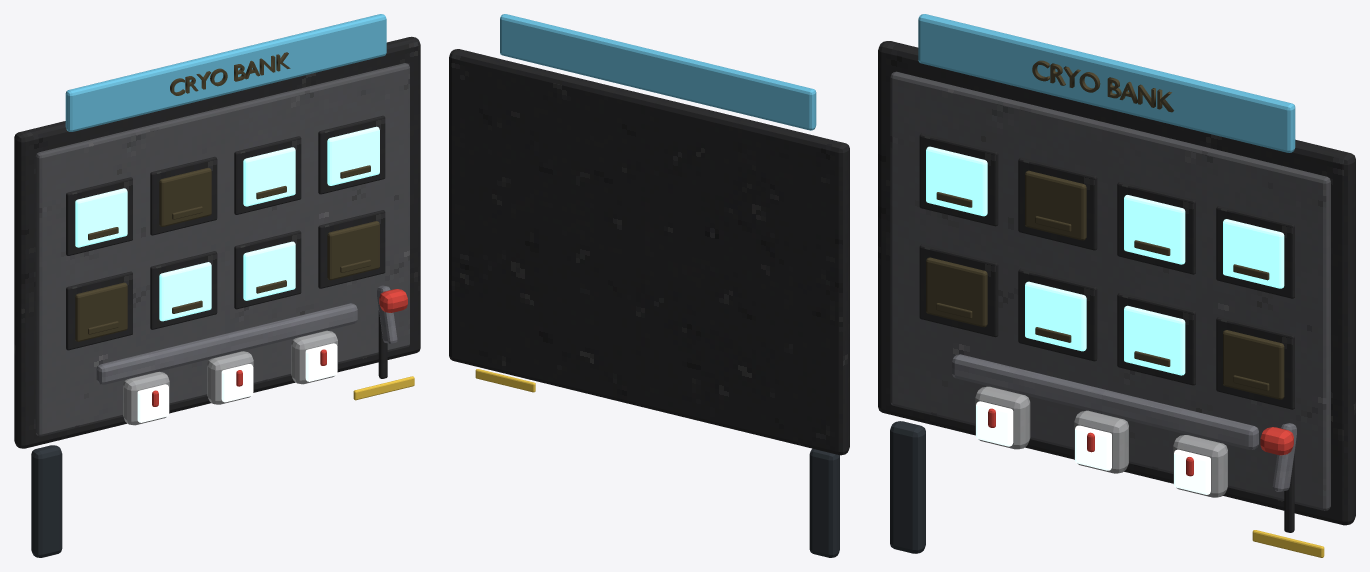
File: decor_med_cryo_control.glb
The picture shows the model from 3 angles, left to right: view 1: azimuth 30°, elevation 25°; view 2: azimuth 150°, elevation 25°; view 3: azimuth 330°, elevation 25°; orthographic projection. The views are drawn at different scales.
Parts seen in each view (by area): view 1: DEC_MedCryoControl__Face_Plate, DEC_MedCryoControl__Backing_Plate, DEC_MedCryoControl__Header, DEC_MedCryoControl__Gauge_Rail, DEC_MedCryoControl__Cable_Trunk, DEC_MedCryoControl__Berth_Tile_7, DEC_MedCryoControl__Berth_Tile_5, DEC_MedCryoControl__Berth_Tile_1, DEC_MedCryoControl__Berth_Tile_2, DEC_MedCryoControl__Berth_Tile_3, DEC_MedCryoControl__Berth_Tile_6, DEC_MedCryoControl__Berth_Tile_4 (+19 smaller); view 2: DEC_MedCryoControl__Backing_Plate, DEC_MedCryoControl__Header, DEC_MedCryoControl__Cable_Trunk, DEC_MedCryoControl__Lever_Label; view 3: DEC_MedCryoControl__Face_Plate, DEC_MedCryoControl__Backing_Plate, DEC_MedCryoControl__Header, DEC_MedCryoControl__Gauge_Rail, DEC_MedCryoControl__Cable_Trunk, DEC_MedCryoControl__Berth_Tile_2, DEC_MedCryoControl__Berth_Tile_4, DEC_MedCryoControl__Berth_Tile_1, DEC_MedCryoControl__Berth_Tile_5, DEC_MedCryoControl__Berth_Tile_7, DEC_MedCryoControl__Berth_Tile_8, DEC_MedCryoControl__Berth_Tile_6 (+20 smaller).
Part boxes in pixels (<box>): DEC_MedCryoControl__Face_Plate: <box>35,63,409,436</box>; DEC_MedCryoControl__Backing_Plate: <box>14,36,420,448</box>; DEC_MedCryoControl__Header: <box>65,14,386,131</box>; DEC_MedCryoControl__Gauge_Rail: <box>96,303,357,384</box>; DEC_MedCryoControl__Cable_Trunk: <box>31,445,62,557</box>; DEC_MedCryoControl__Berth_Tile_7: <box>243,241,295,300</box>; DEC_MedCryoControl__Berth_Tile_5: <box>75,282,127,341</box>; DEC_MedCryoControl__Berth_Tile_1: <box>75,188,127,247</box>; DEC_MedCryoControl__Berth_Tile_2: <box>159,167,211,226</box>; DEC_MedCryoControl__Berth_Tile_3: <box>243,147,295,206</box>; DEC_MedCryoControl__Berth_Tile_6: <box>159,262,211,321</box>; DEC_MedCryoControl__Berth_Tile_4: <box>327,126,379,185</box>; DEC_MedCryoControl__Backing_Plate: <box>449,49,849,455</box>; DEC_MedCryoControl__Header: <box>500,14,816,130</box>; DEC_MedCryoControl__Cable_Trunk: <box>809,448,839,557</box>; DEC_MedCryoControl__Lever_Label: <box>475,369,535,392</box>; DEC_MedCryoControl__Face_Plate: <box>890,71,1330,510</box>; DEC_MedCryoControl__Backing_Plate: <box>878,41,1355,525</box>; DEC_MedCryoControl__Header: <box>918,14,1295,152</box>; DEC_MedCryoControl__Gauge_Rail: <box>952,354,1258,449</box>; DEC_MedCryoControl__Cable_Trunk: <box>890,421,925,553</box>; DEC_MedCryoControl__Berth_Tile_2: <box>1025,170,1086,240</box>; DEC_MedCryoControl__Berth_Tile_4: <box>1223,219,1284,288</box>; DEC_MedCryoControl__Berth_Tile_1: <box>926,146,987,216</box>; DEC_MedCryoControl__Berth_Tile_5: <box>926,257,987,327</box>; DEC_MedCryoControl__Berth_Tile_7: <box>1124,305,1185,375</box>; DEC_MedCryoControl__Berth_Tile_8: <box>1223,330,1284,399</box>; DEC_MedCryoControl__Berth_Tile_6: <box>1025,281,1086,351</box>.
Size of the model in its own units: 1.34 by 1.48 by 0.17.
11 materials, 4 textured.
